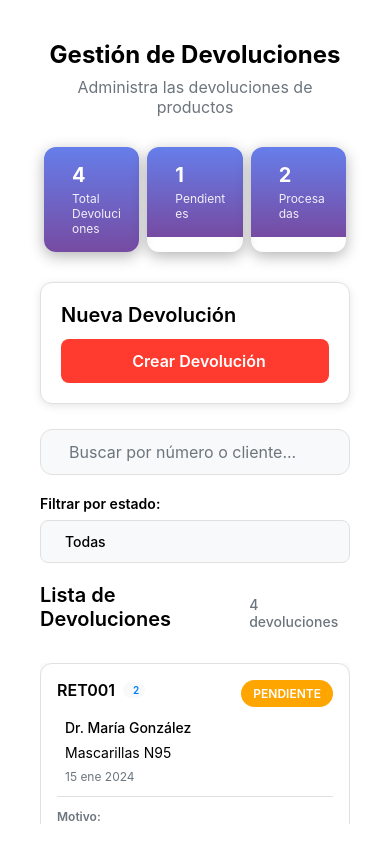
Scenario: ReturnsScreen › shows empty state when no returns match filters
// Buscar un texto que no existe
In the field with placeholder "Buscar por número o cliente...": (201, 452) [69, 442, 333, 462], type "NOEXISTE123"
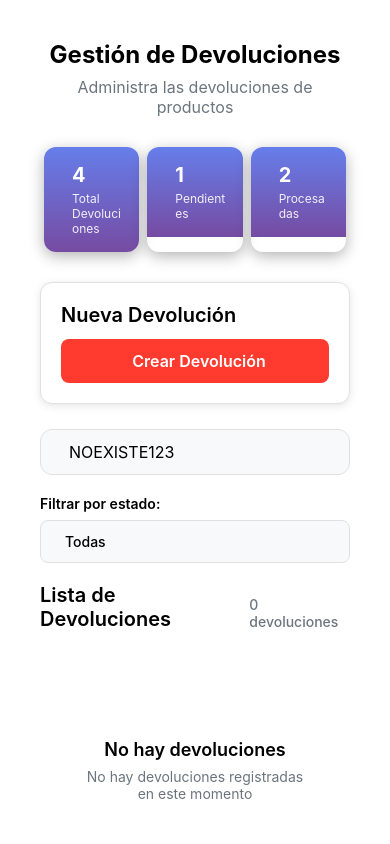
Check: the text "No hay devoluciones" is shown, box [104, 739, 286, 760]
